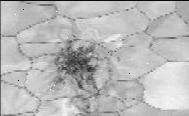good_void: (53, 42, 100, 91)
